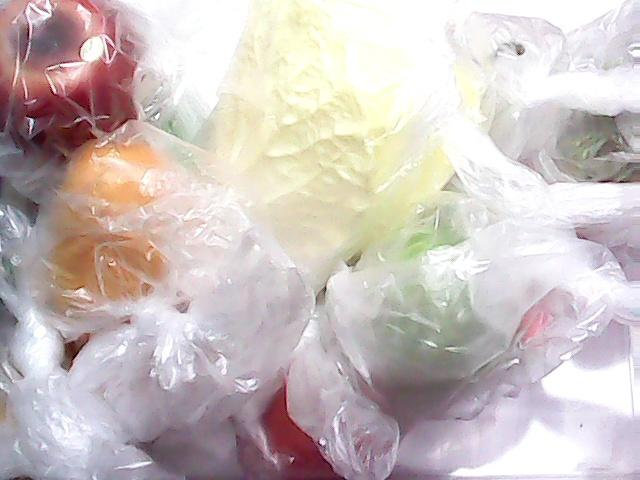apple: (0, 0, 124, 160)
cabbage: (471, 14, 640, 198)
carrot: (513, 244, 575, 348)
lemon: (40, 142, 174, 316)
napa cabbage: (134, 0, 466, 366)
peach: (223, 332, 414, 480)
